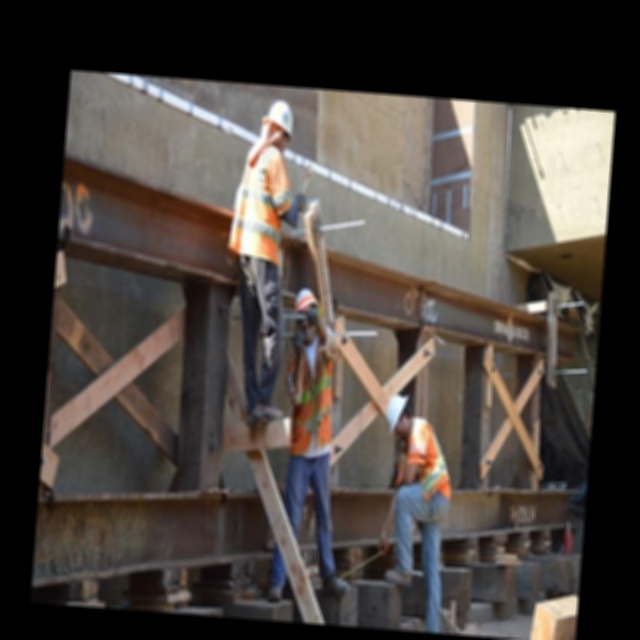Con_Casco: (261, 97, 296, 153), (383, 392, 412, 441)
Con_Chaleco: (230, 150, 292, 257)
